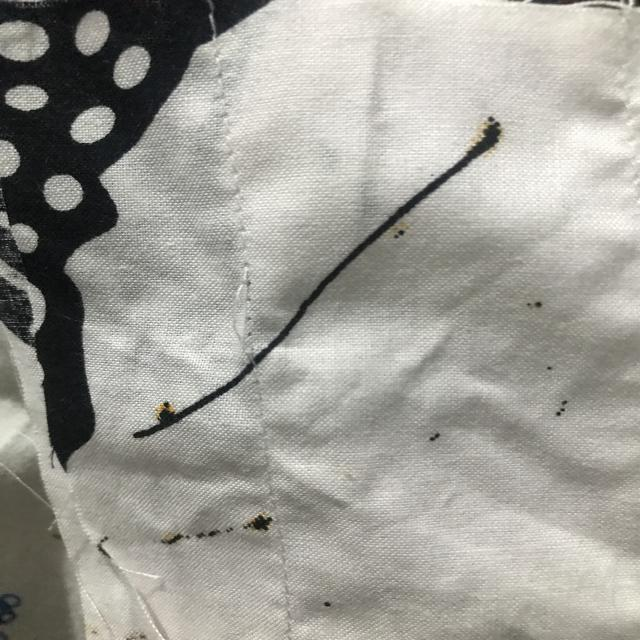skip: (218, 254, 278, 382)
